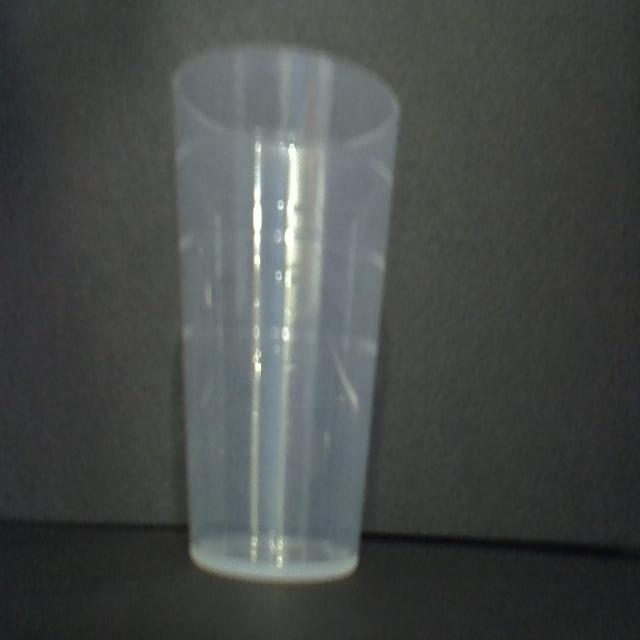cup: (167, 41, 400, 586)
